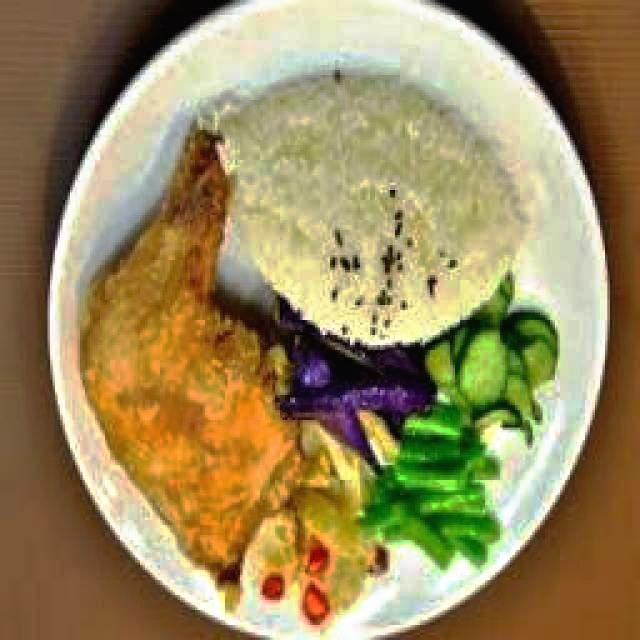fried_chicken: (84, 129, 292, 581)
rice: (228, 84, 525, 343)
water_spinach: (371, 426, 502, 566)
